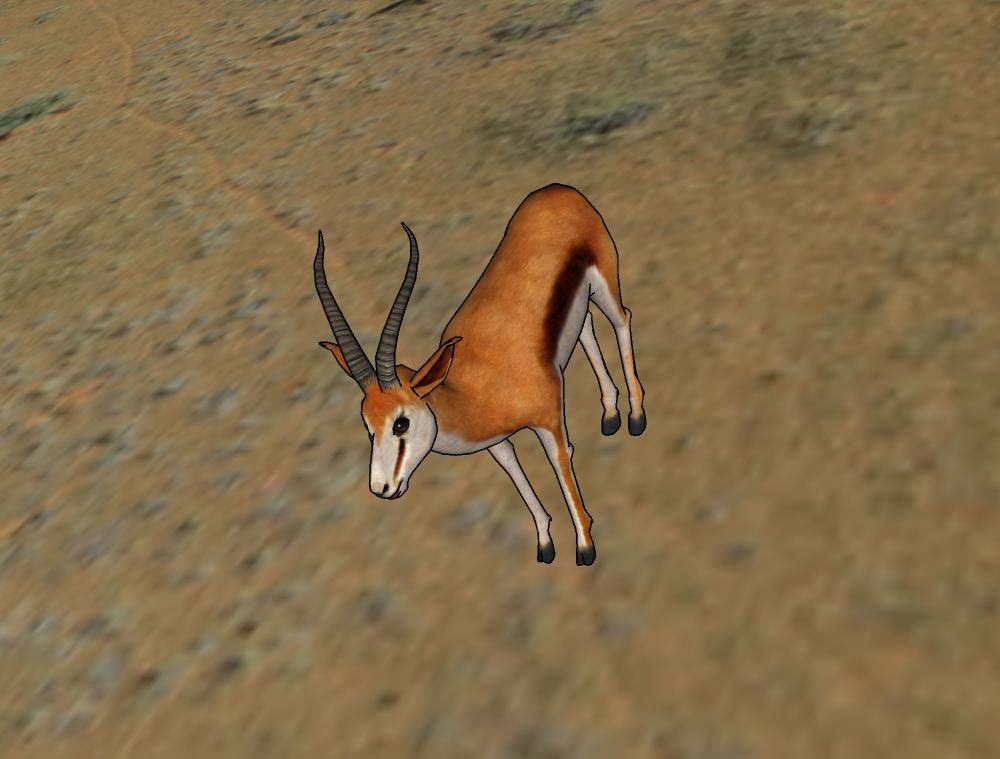springbok: (301, 175, 650, 577)
